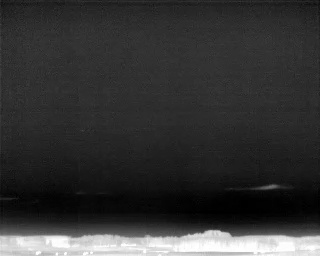BIRD: (81, 127, 87, 134)
